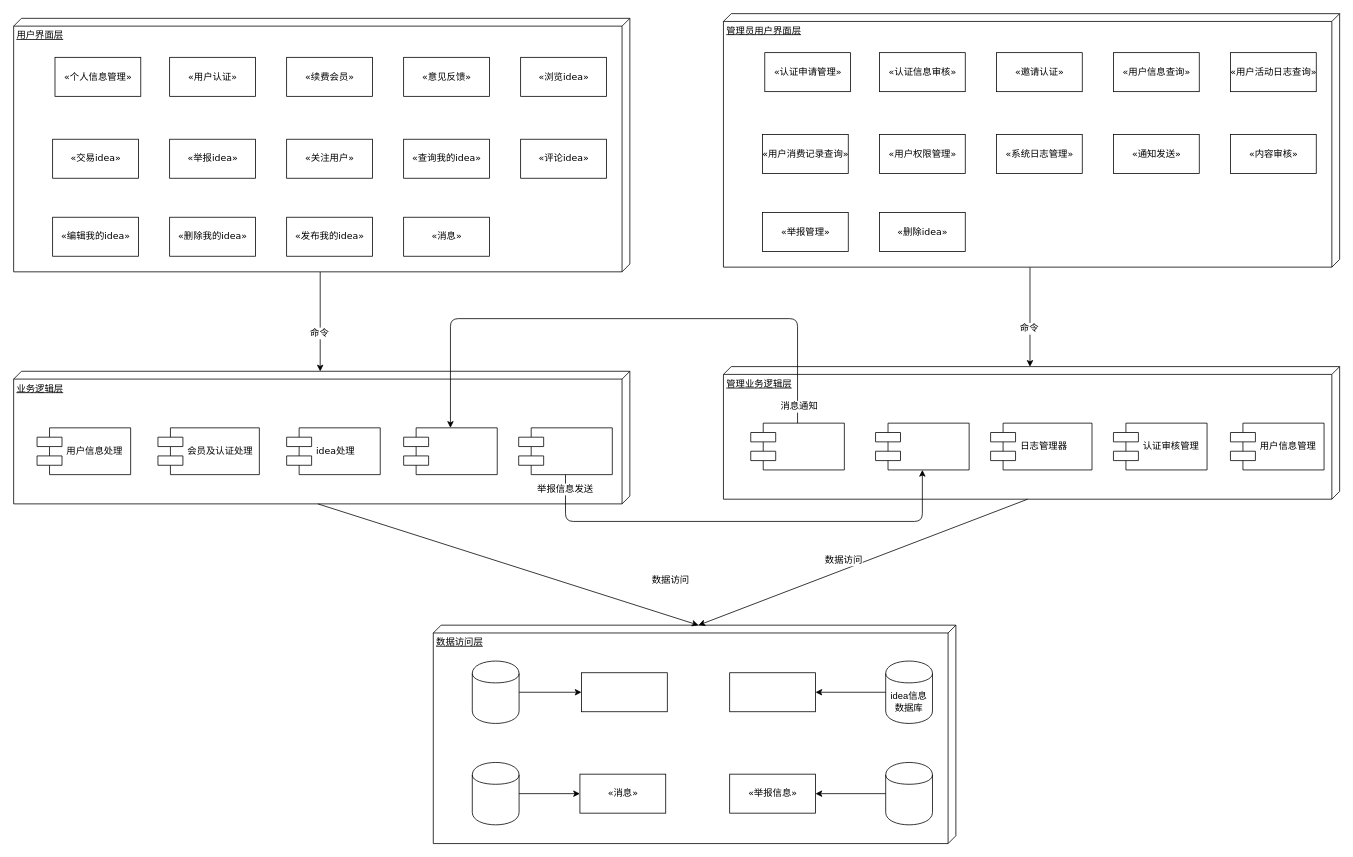
The diagram is 1353 pixels wide and 857 high, and some of its shapes have lost their labels. Each missing label, with the centre of its shape:
"idea审核管理" belongs at point (922, 446).
"«idea信息»" belongs at point (772, 692).
"«用户信息»" belongs at point (624, 692).
"举报信息数据库" belongs at point (908, 793).
"举报处理" belongs at point (565, 451).
"消息处理" belongs at point (450, 451).
"消息数据库" belongs at point (495, 793).
"消息通知管理" belongs at point (797, 446).
"用户个人信息数据库" belongs at point (495, 691).
